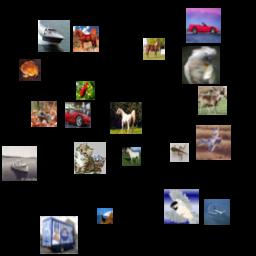airplane: (196, 125, 231, 160), (204, 199, 230, 225)
automobile: (186, 8, 221, 43), (65, 102, 91, 128)
bird: (182, 46, 220, 84), (164, 189, 199, 224), (76, 81, 95, 100)
cat: (74, 142, 106, 174)
deer: (198, 86, 227, 115), (97, 208, 113, 224)
frog: (31, 101, 57, 127), (19, 59, 41, 81), (170, 143, 189, 162)
ship: (2, 146, 37, 181), (38, 20, 70, 52)
truck: (40, 216, 78, 254)
